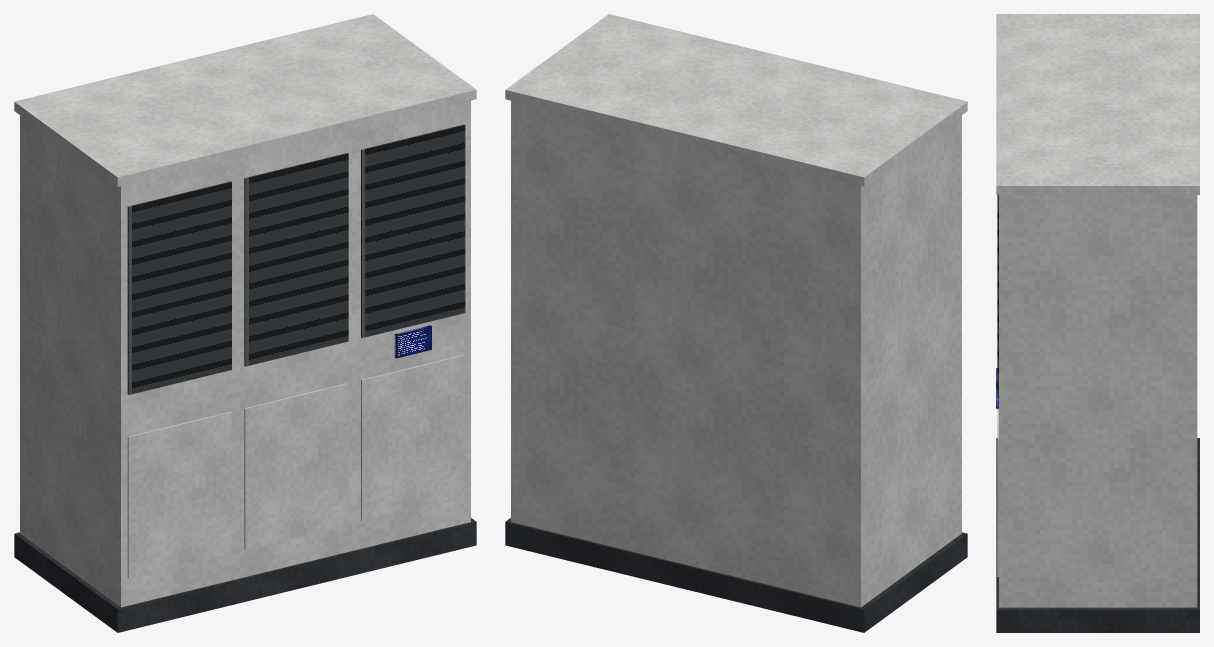
The model's file is tfg_crac_unit.glb.
3 views of the same model, side by side, from view 1: azimuth 30°, elevation 25°; view 2: azimuth 150°, elevation 25°; view 3: azimuth 270°, elevation 25° (orthographic).
Parts seen in each view (by area): view 1: tfg_crac_unit; view 2: tfg_crac_unit; view 3: tfg_crac_unit.
Part boxes in pixels (x1=…): tfg_crac_unit: x1=14, y1=14, x2=476, y2=632; tfg_crac_unit: x1=505, y1=14, x2=967, y2=632; tfg_crac_unit: x1=996, y1=14, x2=1199, y2=632.
Bounding box in the file's own units: 1.6 × 1.94 × 0.801.
Materials: 4 (4 with a texture image).
